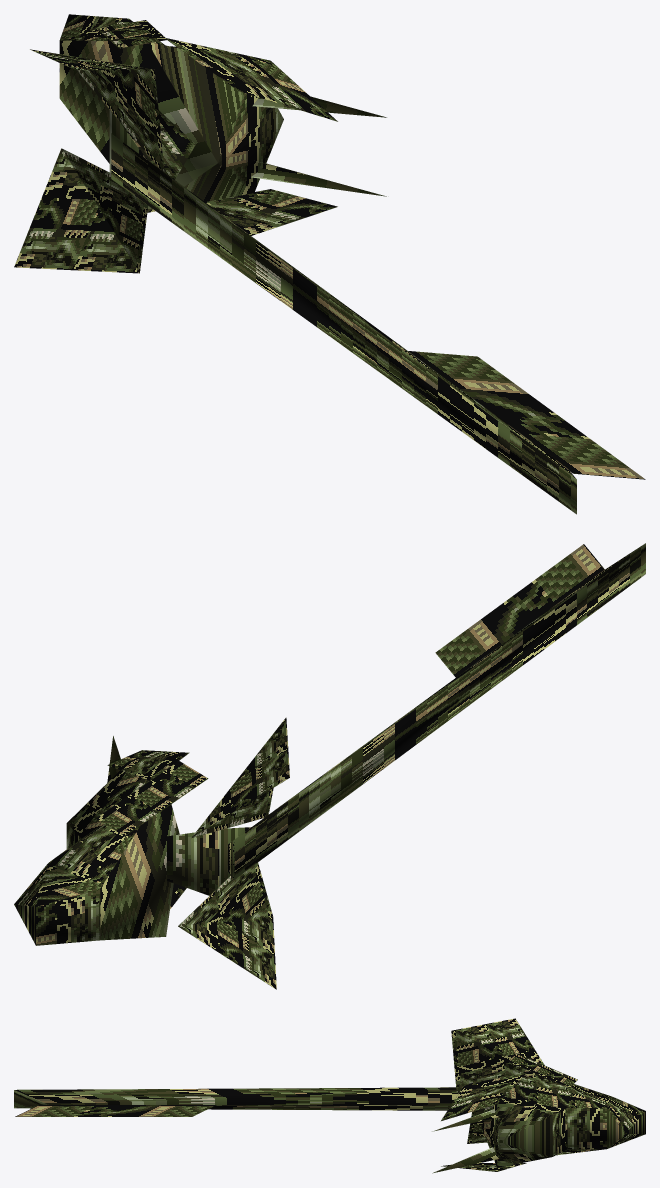
Rendered from 2726sbim03_19.gltf.
3 renders of one model, top to bottom at view 1: azimuth 30°, elevation 25°; view 2: azimuth 150°, elevation 25°; view 3: azimuth 270°, elevation 25°, orthographic. The views are drawn at different scales.
Parts seen in each view (by area): view 1: 2726sbim03_19; view 2: 2726sbim03_19; view 3: 2726sbim03_19.
Boxes of the visible parts, box(x1,y1,x2,y2) form: 2726sbim03_19: box(14, 14, 645, 514); 2726sbim03_19: box(14, 543, 645, 989); 2726sbim03_19: box(14, 1018, 645, 1173).
Bounding box in the file's own units: 0.6826 × 0.5537 × 2.53.
Materials: 1 (1 with a texture image).
